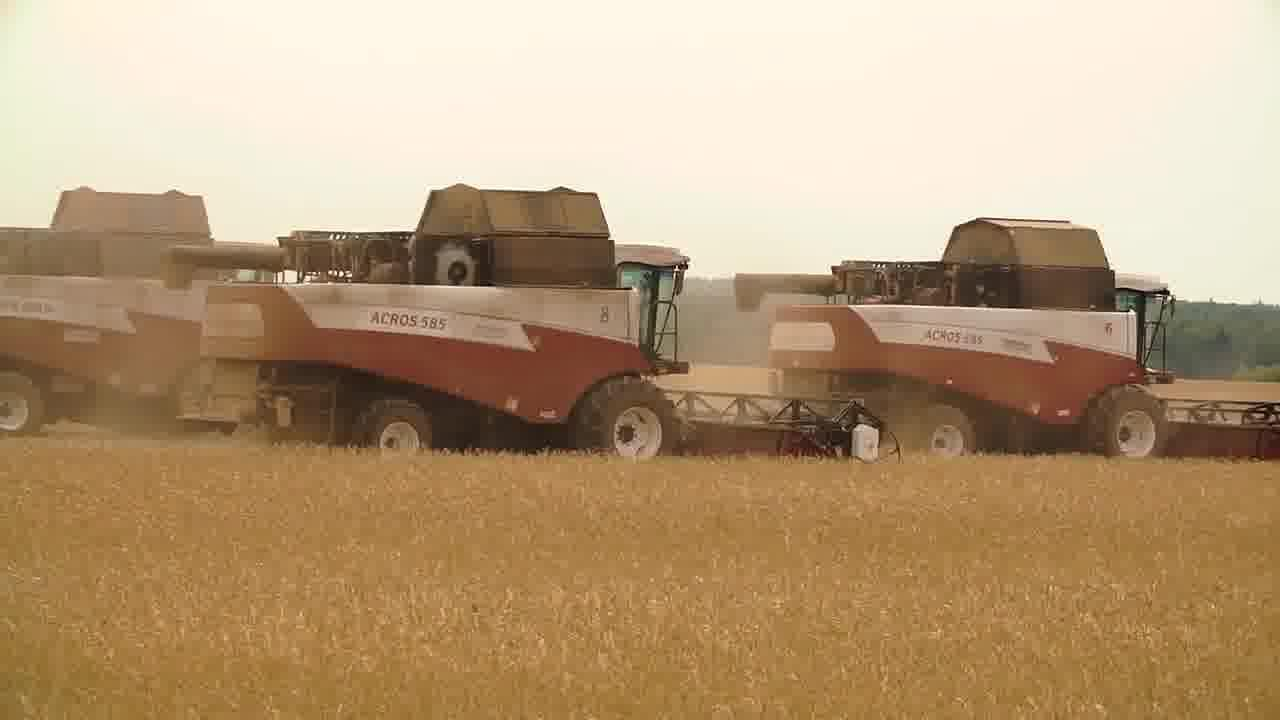combine harvester: (171, 173, 908, 476), (728, 216, 1280, 480), (0, 182, 263, 461)
